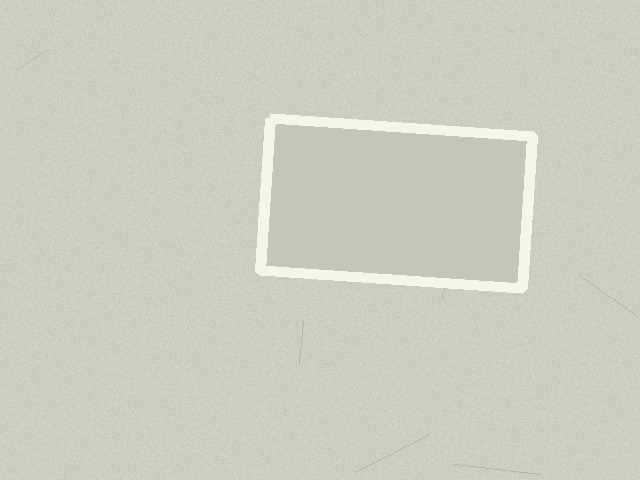parking_area: (260, 118, 532, 288)
